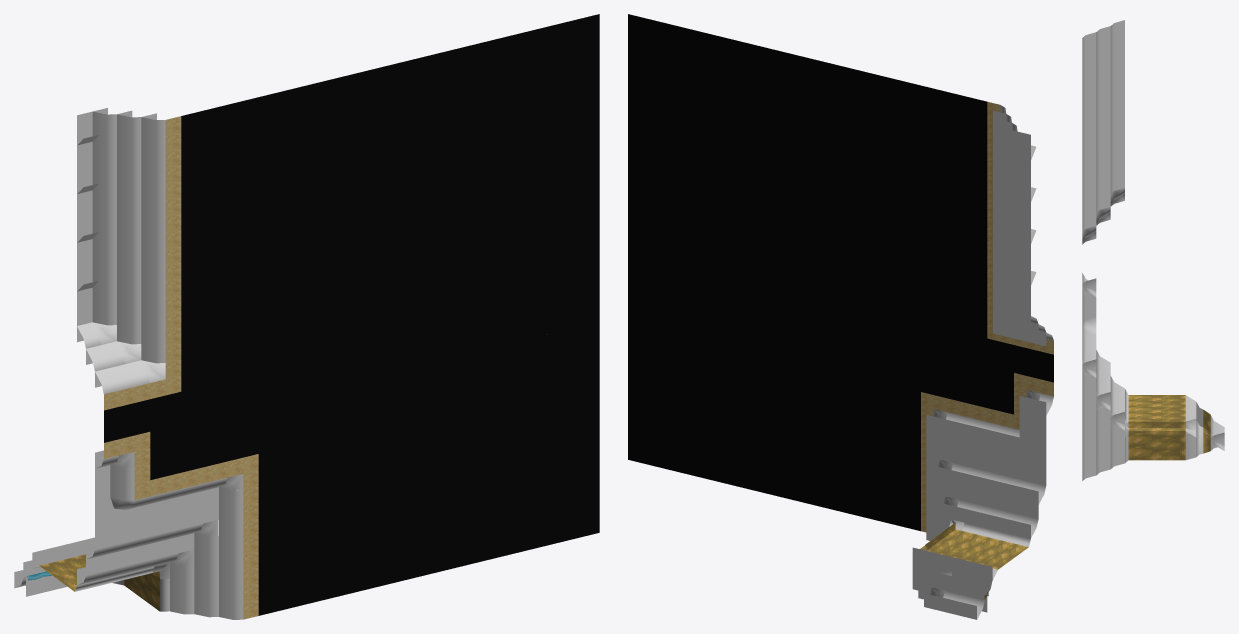
The model's file is Uluru-Cave-2_03_01.obj.
3 renders of one model, left to right at view 1: azimuth 30°, elevation 25°; view 2: azimuth 150°, elevation 25°; view 3: azimuth 270°, elevation 25°, orthographic. The views are drawn at different scales.
Parts seen in each view (by area): view 1: map; view 2: map; view 3: map.
Boxes of the visible parts, x1,y1,x2,y2 form: map: (14, 14, 599, 619); map: (628, 14, 1053, 619); map: (1082, 20, 1224, 480).
Bounding box in the file's own units: 32 × 32 × 10.
